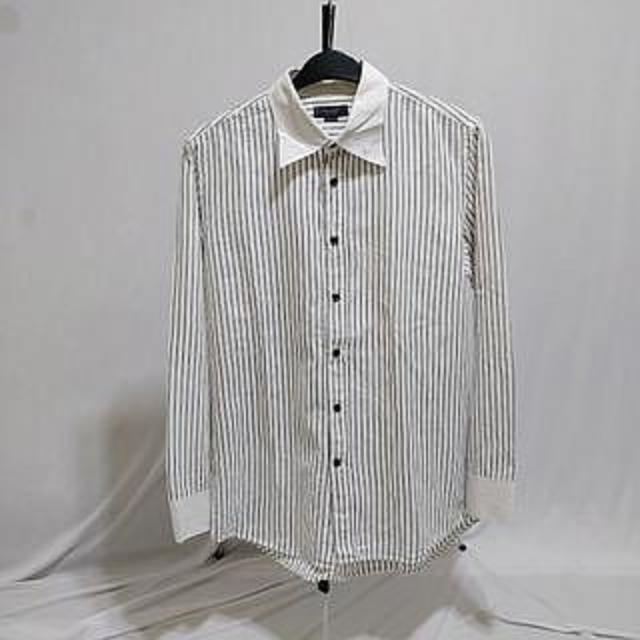SHIRT: (145, 43, 538, 596)
